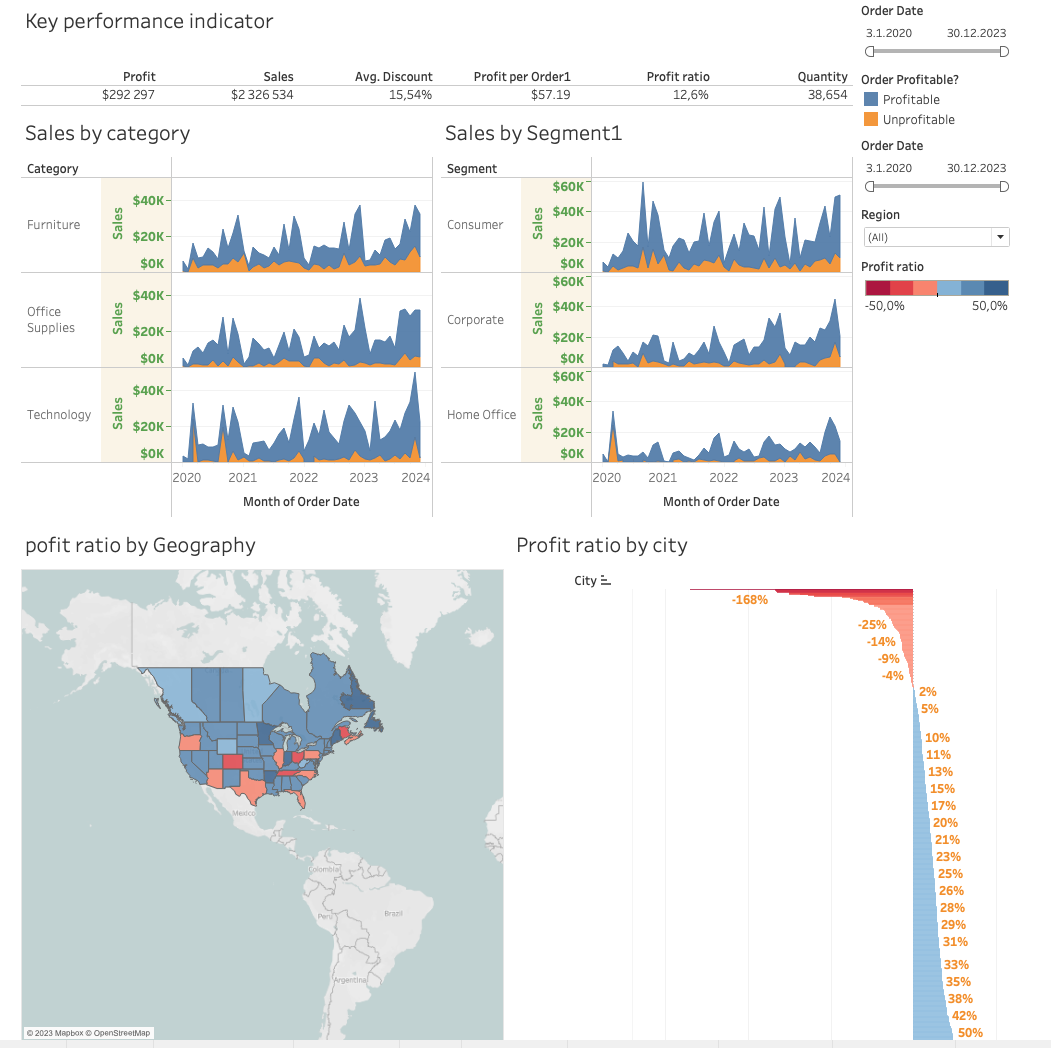

Layout of this report page (visuals, bound fields, positions):
{"tool":"tableau","page":{"name":"Dashboard 7","canvas":[1016,1064],"ordinal":2},"visuals":[{"type":"worksheet","title":"Key performance indicator","mark":"Automatic","box":[8,8,840,112]},{"type":"filter","title":"Sales by category","param":"[federated.10nnk8d1vgmw8q17yu76u06pnbcj].[none:Order Date:qk]","box":[848,8,160,69]},{"type":"legend","title":"Sales by category","param":"[federated.10nnk8d1vgmw8q17yu76u06pnbcj].[none:Calculation_9060122104947471:nk]","box":[848,77,160,66]},{"type":"worksheet","title":"Sales by category","mark":"Area","rows":["Category","Sales"],"cols":["Order Date"],"box":[8,120,420,412.2]},{"type":"worksheet","title":"Sales by Segment1","mark":"Area","rows":["Segment","Sales"],"cols":["Order Date"],"box":[428,120,420,412.2]},{"type":"filter","title":"Sales by Segment1","param":"[federated.10nnk8d1vgmw8q17yu76u06pnbcj].[none:Order Date:qk]","box":[848,143,160,69]},{"type":"filter","title":"pofit ratio by Geography","param":"[federated.10nnk8d1vgmw8q17yu76u06pnbcj].[none:Region:nk]","box":[848,212,160,52]},{"type":"legend","title":"pofit ratio by Geography","param":"[federated.10nnk8d1vgmw8q17yu76u06pnbcj].[usr:Calculation_225320780682248192:qk]","box":[848,264,160,65]},{"type":"worksheet","title":"pofit ratio by Geography","mark":"Automatic","box":[8,532.2,491,523.8]},{"type":"worksheet","title":"Profit ratio by city","mark":"Automatic","rows":["City"],"cols":["Calculation_9921103144103743"],"box":[499,532.2,509,523.8]}]}

Visuals, with their boxes on the page's 1016x1064 design canvas (x1, y1, x2, y2). These are canvas units, not pixel positions in the 1051x1048 screenshot, which may show the page scaled, cropped or inside an application window:
"Key performance indicator" worksheet: 8/8/848/120
"Sales by category" filter: 848/8/1008/77
"Sales by category" legend: 848/77/1008/143
"Sales by category" worksheet (Area marks): 8/120/428/532
"Sales by Segment1" worksheet (Area marks): 428/120/848/532
"Sales by Segment1" filter: 848/143/1008/212
"pofit ratio by Geography" filter: 848/212/1008/264
"pofit ratio by Geography" legend: 848/264/1008/329
"pofit ratio by Geography" worksheet: 8/532/499/1056
"Profit ratio by city" worksheet: 499/532/1008/1056
